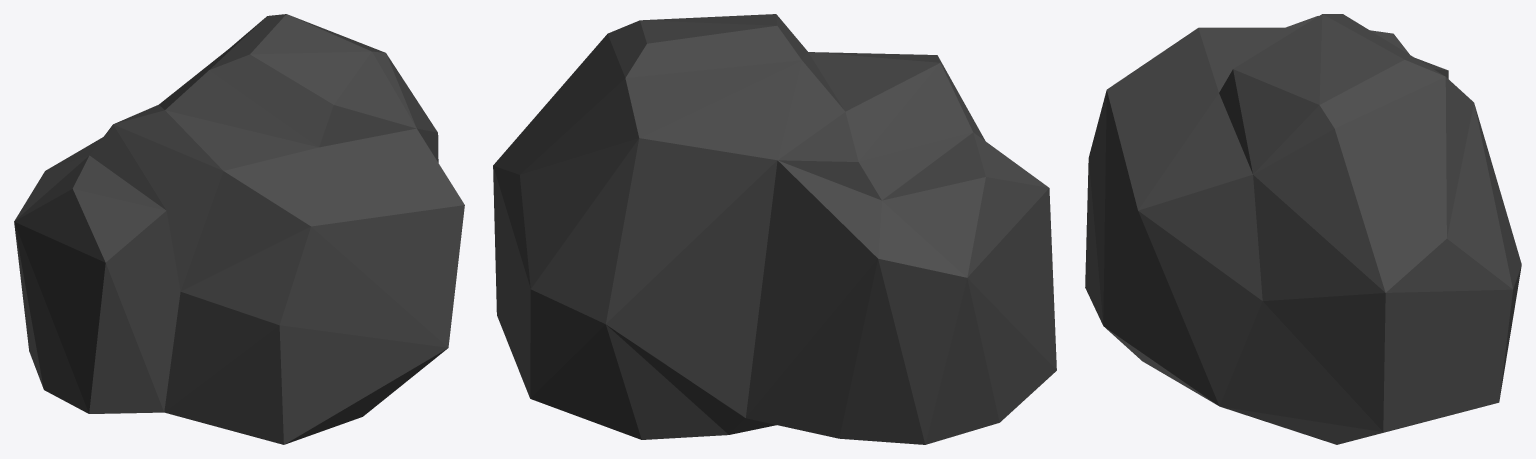
File: rock__rock2_natural_dark.glb
The picture shows the model from 3 angles, left to right: view 1: azimuth 30°, elevation 25°; view 2: azimuth 150°, elevation 25°; view 3: azimuth 270°, elevation 25°; orthographic projection. The views are drawn at different scales.
Parts seen in each view (by area): view 1: rock2.natural.dark; view 2: rock2.natural.dark; view 3: rock2.natural.dark.
Part boxes in pixels (x1,y1,x2,y2): rock2.natural.dark: [14, 14, 464, 444]; rock2.natural.dark: [493, 14, 1056, 444]; rock2.natural.dark: [1085, 14, 1521, 444].
Bounding box in the file's own units: 3.5 × 2.59 × 2.93.
Materials: 1 (1 with a texture image).
